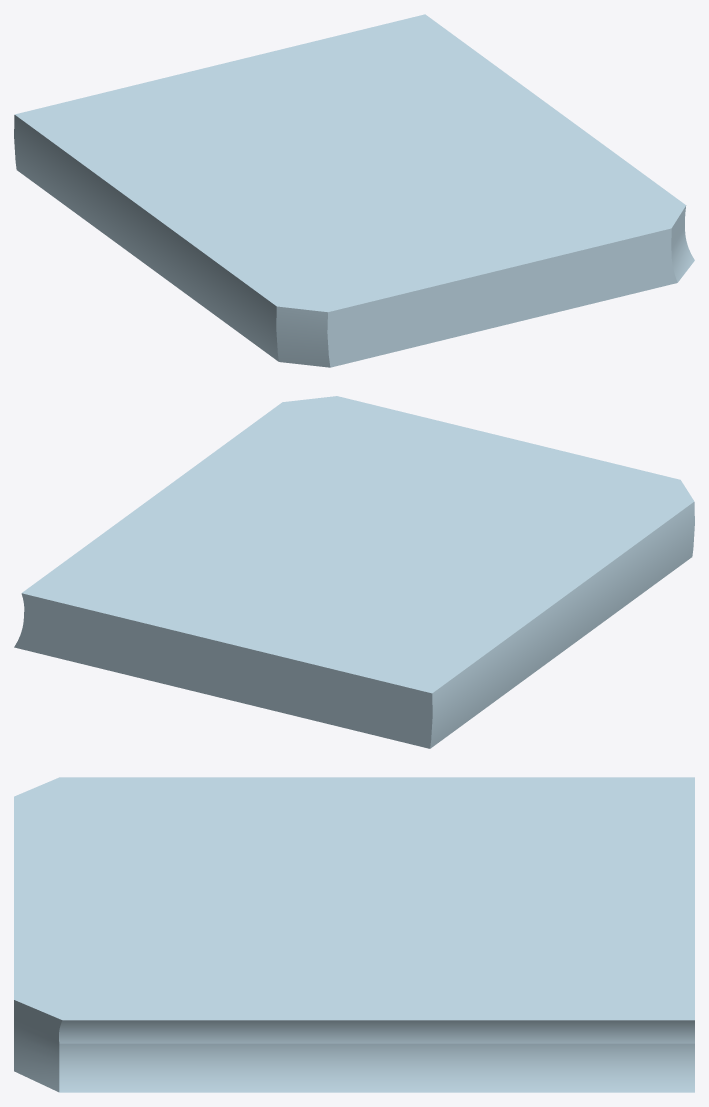
File: STAM - S6-0.gltf
3 views of the same model, one above another, from view 1: azimuth 30°, elevation 25°; view 2: azimuth 150°, elevation 25°; view 3: azimuth 270°, elevation 25° (orthographic). The views are drawn at different scales.
Visible parts, largest first — view 1: S6-0; view 2: S6-0; view 3: S6-0.
Boxes of the visible parts, x1,y1,x2,y2 form: S6-0: (14, 14, 694, 367); S6-0: (14, 396, 694, 748); S6-0: (14, 777, 694, 1092).
Size of the model in its own units: 0.0129 by 0.00165 by 0.015.
